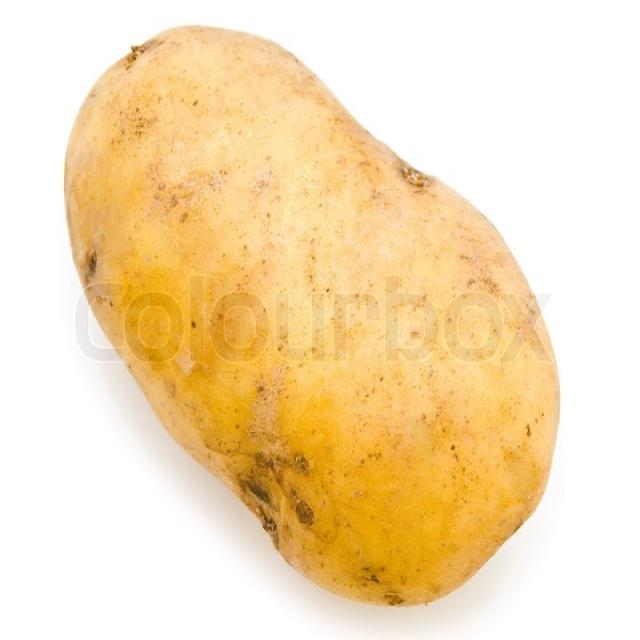potato: (64, 25, 560, 608)
